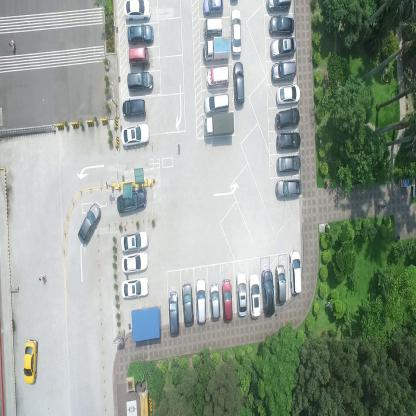car: (78, 202, 101, 245), (203, 111, 235, 137), (116, 188, 147, 214), (22, 338, 38, 385), (120, 229, 149, 253), (121, 124, 149, 148), (260, 268, 274, 316), (202, 37, 230, 61), (121, 275, 149, 299), (121, 249, 149, 273), (289, 247, 302, 296), (269, 37, 297, 59), (122, 0, 152, 20), (203, 92, 230, 114), (230, 8, 242, 57), (248, 271, 260, 319), (206, 65, 230, 89), (180, 282, 193, 326), (194, 276, 206, 323), (275, 107, 299, 130), (168, 290, 180, 336), (275, 84, 300, 106), (270, 61, 296, 82), (127, 24, 154, 44), (232, 61, 244, 105), (276, 153, 300, 175), (235, 271, 247, 315), (127, 72, 154, 91), (275, 179, 302, 198), (222, 278, 233, 324), (274, 261, 285, 305), (121, 99, 146, 118), (268, 16, 294, 34), (275, 132, 300, 150), (128, 47, 150, 67), (208, 281, 219, 321), (203, 20, 223, 37), (203, 0, 224, 15), (267, 0, 292, 12)
